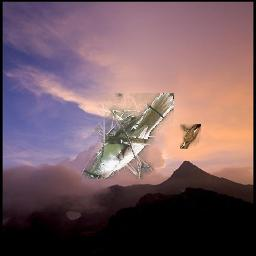Cuckoo: (82, 93, 175, 179), (181, 125, 202, 150)
